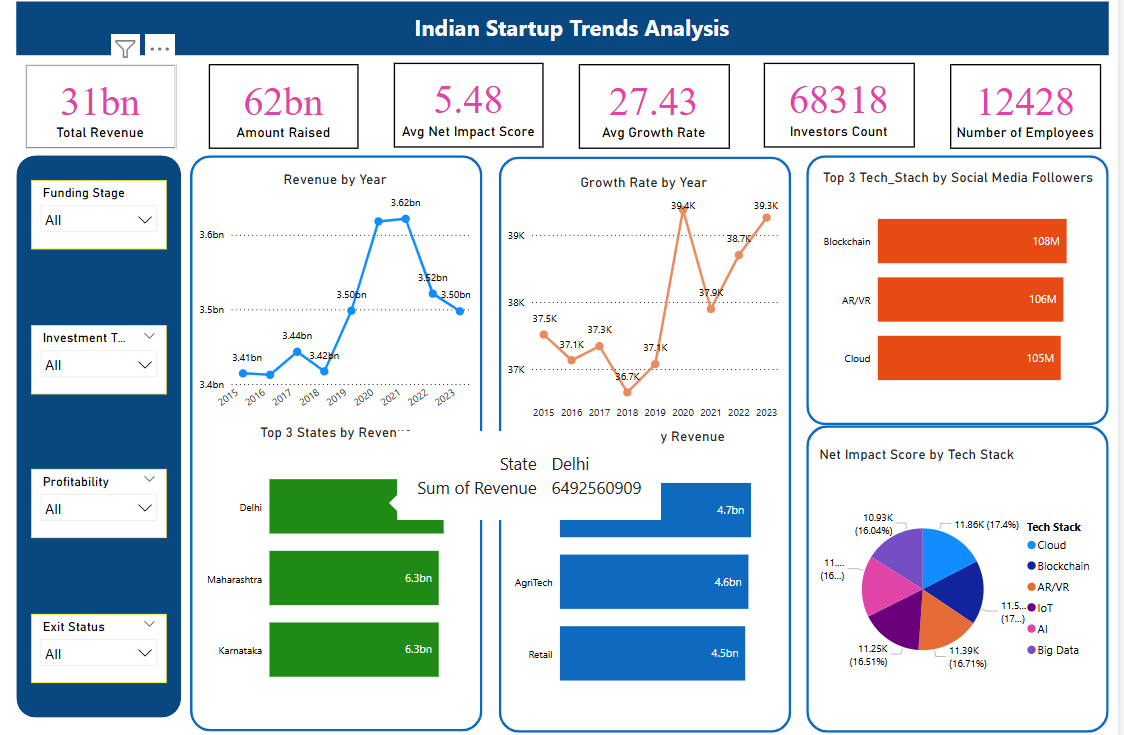

The page's visual inventory and layout, read from the dashboard file:
{"tool":"powerbi","page":{"name":"Page 1","canvas":[1350,900],"ordinal":0},"visuals":[{"type":"shape","box":[19.6,9,1318,64.8],"z":0},{"type":"shape","box":[972.7,520.3,364.9,371],"z":1000},{"type":"textbox","box":[494.6,16.6,408.7,51.3],"z":2000},{"type":"card","fields":{"Values":["Sum(Indian_Startup_Investment_Trends.Revenue)"]},"box":[30.2,84.5,182.5,102.5],"z":3000},{"type":"card","fields":{"Values":["Sum(Indian_Startup_Investment_Trends.Amount_Raised)"]},"box":[251.7,84.1,181,102.5],"z":4000},{"type":"shape","box":[229.2,193.8,352.9,695.2],"z":5000},{"type":"card","fields":{"Values":["Avg(Indian_Startup_Investment_Trends.Growth_Rate)"]},"box":[697.7,83.8,182.2,102.5],"z":6000},{"type":"card","fields":{"Values":["Sum(Indian_Startup_Investment_Trends.Investors_Count)"]},"box":[921.9,83.5,182.2,102.5],"z":7000},{"type":"card","fields":{"Values":["CountNonNull(Indian_Startup_Investment_Trends.Number_of_Employees)"]},"box":[1146.1,84.5,182.5,102.5],"z":8000},{"type":"shape","box":[19.6,194.5,199.1,678.6],"z":9000},{"type":"lineChart","title":" Revenue by Year","fields":{"Y":["Sum(Indian_Startup_Investment_Trends.Revenue)"],"Category":["Indian_Startup_Investment_Trends.Funding_Date.Variation.Date Hierarchy.Year"]},"box":[235.3,212.6,337.8,306.1],"z":10000},{"type":"barChart","title":"Top 3 States by Revenue","fields":{"Y":["Sum(Indian_Startup_Investment_Trends.Revenue)"],"Category":["Indian_Startup_Investment_Trends.State"]},"box":[238.3,518.8,334.8,348.4],"z":11000},{"type":"shape","box":[602.4,196.2,352.9,695.2],"z":12000},{"type":"lineChart","title":"Growth Rate by Year","fields":{"Category":["Indian_Startup_Investment_Trends.Funding_Date.Variation.Date Hierarchy.Year","Indian_Startup_Investment_Trends.Funding_Date.Variation.Date Hierarchy.Quarter","Indian_Startup_Investment_Trends.Funding_Date.Variation.Date Hierarchy.Month","Indian_Startup_Investment_Trends.Funding_Date.Variation.Date Hierarchy.Day"],"Y":["Sum(Indian_Startup_Investment_Trends.Growth_Rate)"]},"box":[608.4,216.6,337.8,306.1],"z":13000},{"type":"barChart","title":"Top 3 Sectors by Revenue","fields":{"Y":["Sum(Indian_Startup_Investment_Trends.Revenue)"],"Category":["Indian_Startup_Investment_Trends.Sector"]},"box":[611.4,522.7,334.8,348.4],"z":14000},{"type":"shape","box":[972.7,194.5,364.9,325.7],"z":15000},{"type":"barChart","title":"Top 3 Tech_Stach by Social Media Followers","fields":{"Y":["Sum(Indian_Startup_Investment_Trends.Social_Media_Followers)"],"Category":["Indian_Startup_Investment_Trends.Tech_Stack"]},"box":[983.2,211.1,345.3,291.1],"z":16000},{"type":"slicer","fields":{"Values":["Indian_Startup_Investment_Trends.Funding_Stage"]},"box":[37.7,224.7,162.9,82.9],"z":17000},{"type":"slicer","fields":{"Values":["Indian_Startup_Investment_Trends.Investment_Type"]},"box":[37.7,399.1,162.9,82.9],"z":18000},{"type":"slicer","fields":{"Values":["Indian_Startup_Investment_Trends.Profitability"]},"box":[37.7,573.6,162.9,82.9],"z":19000},{"type":"slicer","fields":{"Values":["Indian_Startup_Investment_Trends.Exit_Status"]},"box":[37.7,748,162.9,82.9],"z":20000},{"type":"card","fields":{"Values":["Avg(Indian_Startup_Investment_Trends.Net_Impact_Score)"]},"box":[474.7,83.2,181,102.5],"z":21000},{"type":"pieChart","title":"Net Impact Score by Tech Stack","fields":{"Y":["Sum(Indian_Startup_Investment_Trends.Net_Impact_Score)"],"Category":["Indian_Startup_Investment_Trends.Tech_Stack"]},"box":[983.2,544.4,345.3,328.8],"z":22000}]}

Visuals, with their boxes in screenshot pixels (x1, y1, x2, y2), scaled from the page's 1350x900 canvas onto the 1124x735 screenshot:
shape: bbox(16, 7, 1114, 60)
shape: bbox(810, 425, 1114, 728)
textbox: bbox(412, 14, 752, 55)
card - Sum(Indian_Startup_Investment_Trends.Revenue): bbox(25, 69, 177, 153)
card - Sum(Indian_Startup_Investment_Trends.Amount_Raised): bbox(210, 69, 360, 152)
shape: bbox(191, 158, 485, 726)
card - Avg(Indian_Startup_Investment_Trends.Growth_Rate): bbox(581, 68, 733, 152)
card - Sum(Indian_Startup_Investment_Trends.Investors_Count): bbox(768, 68, 919, 152)
card - CountNonNull(Indian_Startup_Investment_Trends.Number_of_Employees): bbox(954, 69, 1106, 153)
shape: bbox(16, 159, 182, 713)
" Revenue by Year" lineChart: bbox(196, 174, 477, 424)
"Top 3 States by Revenue" barChart: bbox(198, 424, 477, 708)
shape: bbox(502, 160, 795, 728)
"Growth Rate by Year" lineChart: bbox(507, 177, 788, 427)
"Top 3 Sectors by Revenue" barChart: bbox(509, 427, 788, 711)
shape: bbox(810, 159, 1114, 425)
"Top 3 Tech_Stach by Social Media Followers" barChart: bbox(819, 172, 1106, 410)
slicer - Indian_Startup_Investment_Trends.Funding_Stage: bbox(31, 184, 167, 251)
slicer - Indian_Startup_Investment_Trends.Investment_Type: bbox(31, 326, 167, 394)
slicer - Indian_Startup_Investment_Trends.Profitability: bbox(31, 468, 167, 536)
slicer - Indian_Startup_Investment_Trends.Exit_Status: bbox(31, 611, 167, 679)
card - Avg(Indian_Startup_Investment_Trends.Net_Impact_Score): bbox(395, 68, 546, 152)
"Net Impact Score by Tech Stack" pieChart: bbox(819, 445, 1106, 713)
